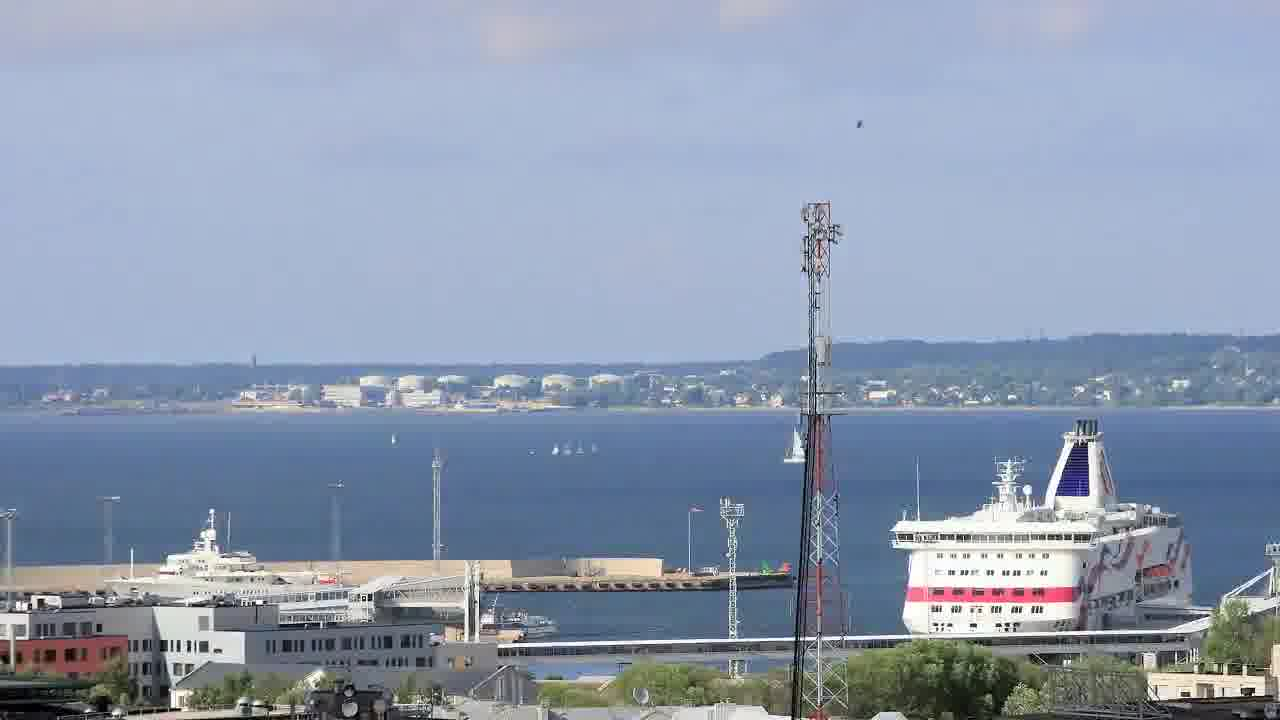type-1: (441, 591, 567, 639)
type-2: (766, 428, 827, 467)
type-3: (868, 415, 1225, 638), (84, 537, 359, 610)
